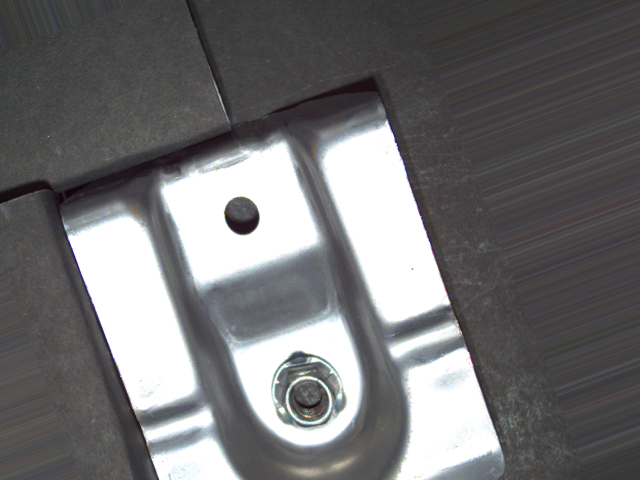good: (267, 351, 350, 435)
